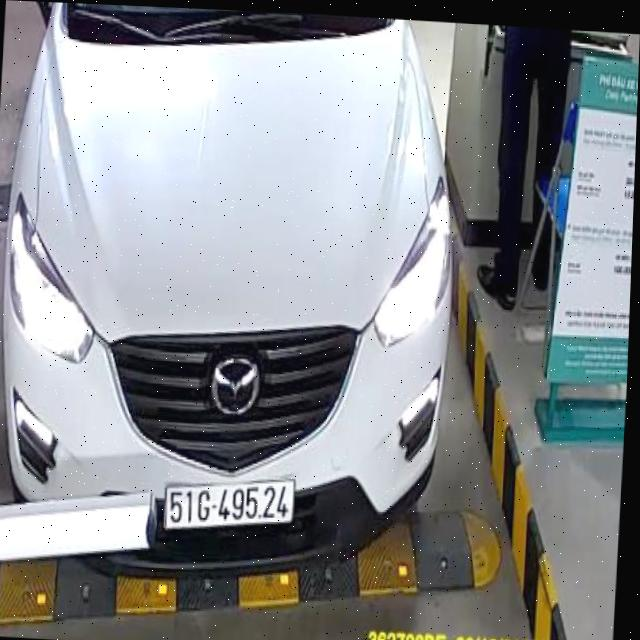car: (0, 0, 471, 601)
plate: (160, 470, 302, 537)
